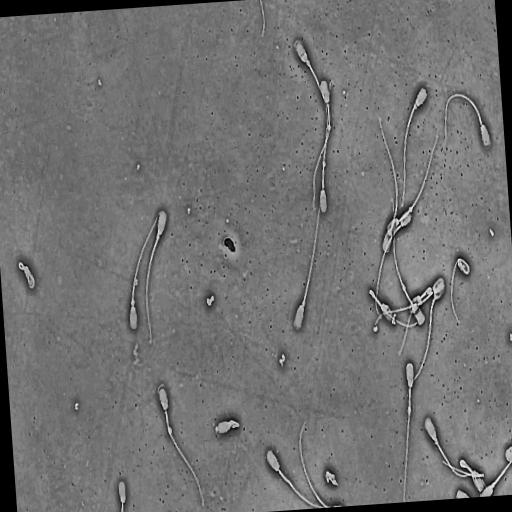coiled-tail: (451, 258, 469, 323), (18, 262, 35, 289), (229, 420, 240, 428), (19, 264, 23, 268)
dirt-particles: (323, 467, 339, 489), (222, 235, 238, 256), (277, 351, 287, 367), (205, 294, 215, 309), (74, 400, 80, 412)
distal-droplet: (407, 405, 412, 415), (408, 205, 413, 213), (168, 426, 172, 435), (402, 283, 406, 291), (322, 161, 326, 168), (435, 438, 438, 446), (328, 124, 331, 131)
folded-tail: (399, 287, 431, 355), (370, 290, 417, 327), (460, 459, 481, 496), (461, 462, 467, 468)
loose-tail: (299, 418, 329, 507)
normal: (157, 384, 206, 508), (386, 133, 440, 238), (290, 184, 326, 331), (404, 280, 446, 401), (390, 195, 427, 328), (293, 41, 329, 166), (127, 209, 163, 330), (400, 81, 431, 212), (376, 211, 412, 319), (265, 447, 325, 508), (374, 277, 445, 327), (145, 208, 169, 347), (377, 112, 400, 257), (423, 416, 472, 480), (443, 90, 492, 150), (311, 78, 332, 212), (396, 285, 432, 359), (368, 287, 421, 329), (401, 359, 416, 502), (448, 252, 473, 330), (319, 76, 333, 215), (479, 457, 512, 497), (458, 456, 485, 497), (16, 257, 37, 292), (212, 416, 241, 438)
proximal-droplet: (131, 298, 135, 308), (413, 102, 417, 110), (491, 482, 496, 488), (156, 233, 160, 240), (306, 59, 310, 65), (302, 301, 305, 307)
